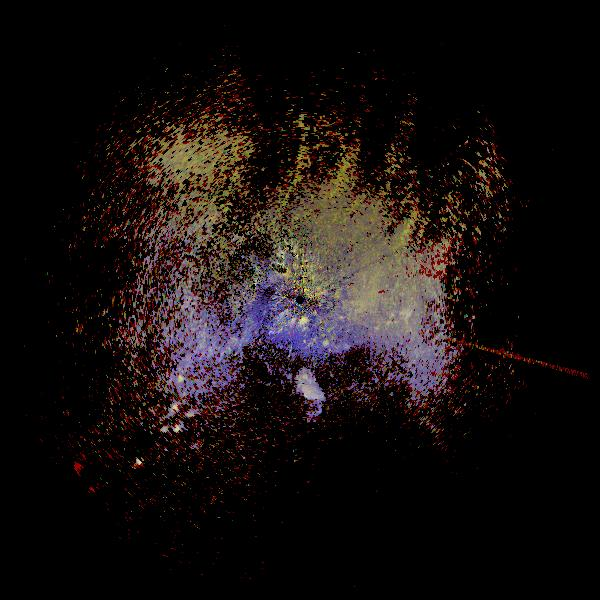roost: (354, 244, 441, 331), (273, 360, 336, 423)
